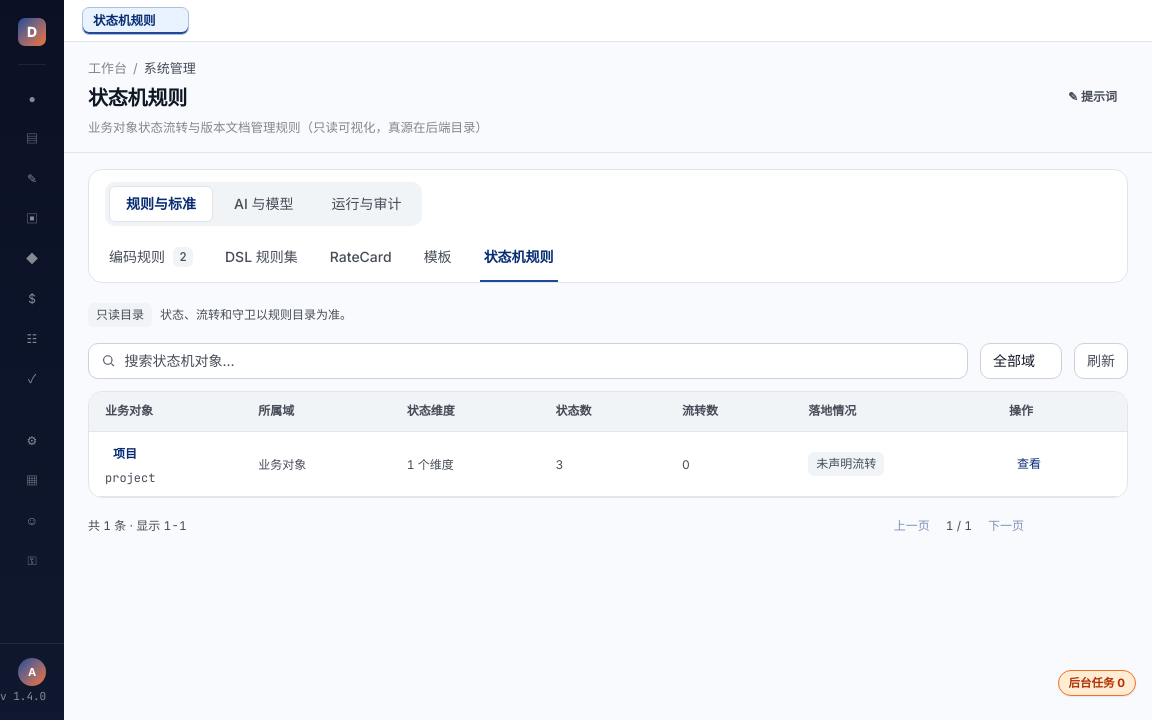
Test: 系统管理 · 状态机规则可视化页 › 目录未声明流转时不将其标为全部落地
Expected: the text "未声明流转" is shown, [808,452,884,476]
Click the button with aria-label "查看 项目" at (1029, 464), box [1009,448,1049,480]
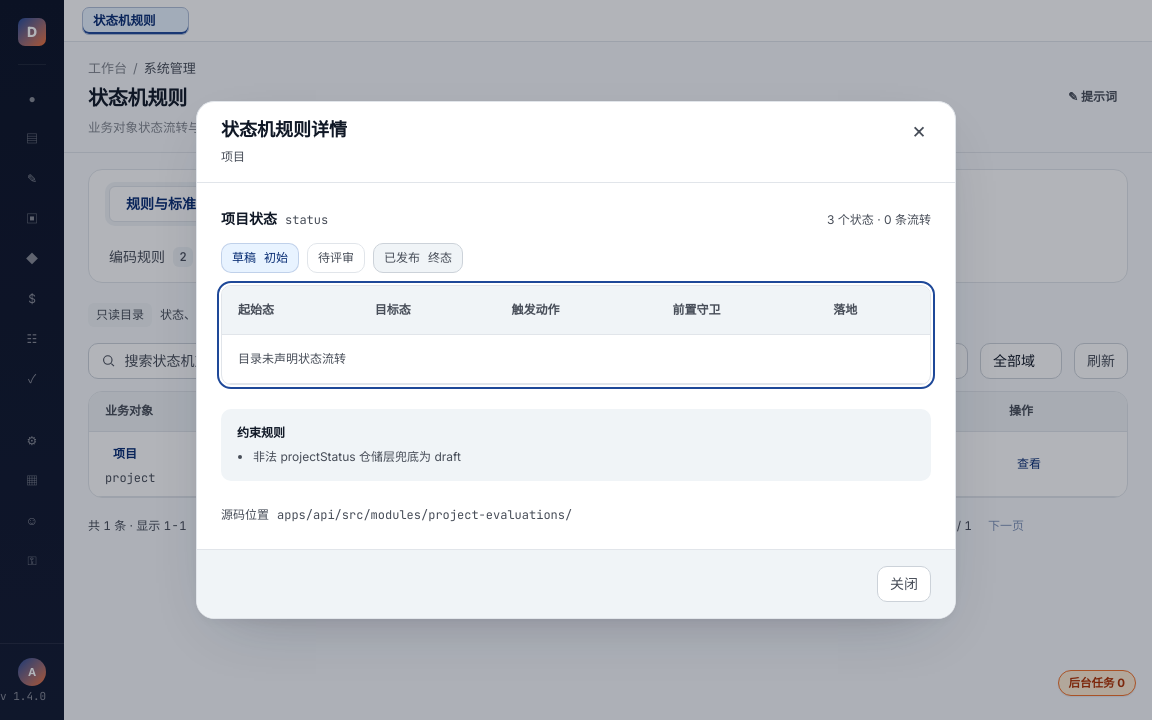
Now the text "目录未声明状态流转" is shown, box [222,335,930,384]
